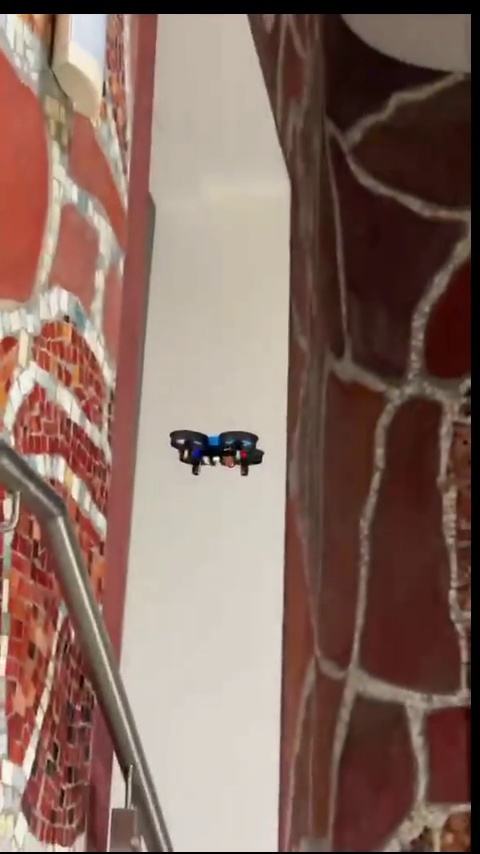drone: (165, 428, 267, 481)
